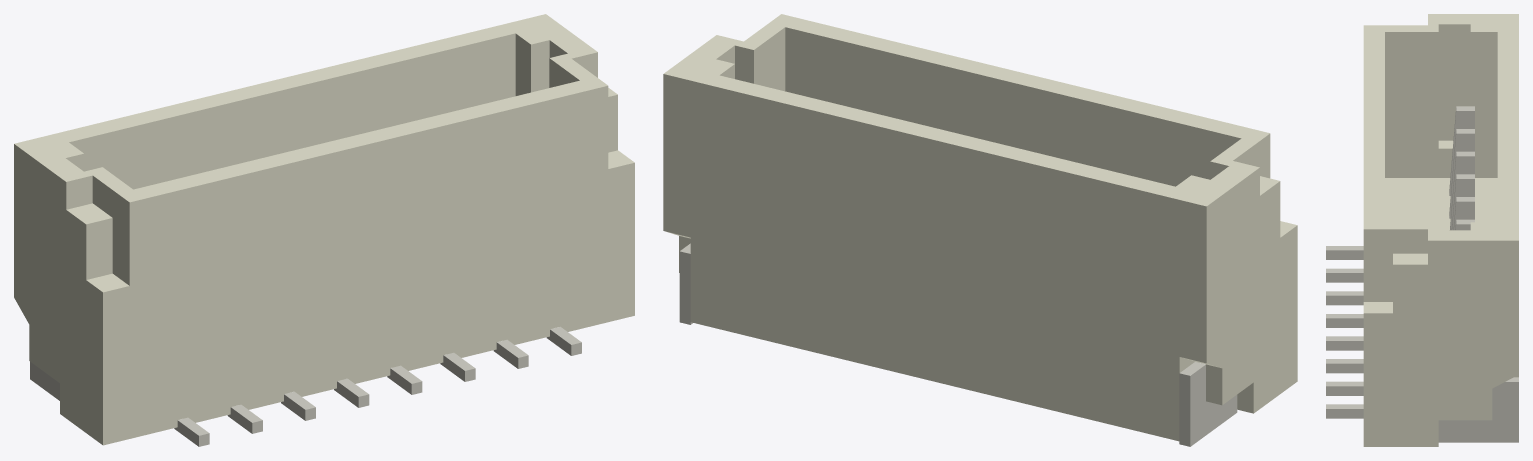
The model's file is kc-jst_sh_bm08b-srss-tb_1x08-1mp_p1.00mm_vertical.glb.
The picture shows the model from 3 angles, left to right: view 1: azimuth 30°, elevation 25°; view 2: azimuth 150°, elevation 25°; view 3: azimuth 270°, elevation 25°; orthographic projection. The views are drawn at different scales.
Parts seen in each view (by area): view 1: 0.75_0.75_0.6666666666666666_0, 0.6666666666666666_0.6666666666666666_0.5833333333333334_0.8; view 2: 0.75_0.75_0.6666666666666666_0, 0.6666666666666666_0.6666666666666666_0.5833333333333334_0.8; view 3: 0.75_0.75_0.6666666666666666_0, 0.6666666666666666_0.6666666666666666_0.5833333333333334_0.8.
Part boxes in pixels (left/top/right/bottom): 0.75_0.75_0.6666666666666666_0: left=14, top=14, right=634, bottom=445; 0.6666666666666666_0.6666666666666666_0.5833333333333334_0.8: left=30, top=326, right=581, bottom=446; 0.75_0.75_0.6666666666666666_0: left=663, top=14, right=1297, bottom=441; 0.6666666666666666_0.6666666666666666_0.5833333333333334_0.8: left=679, top=243, right=1237, bottom=446; 0.75_0.75_0.6666666666666666_0: left=1363, top=14, right=1518, bottom=446; 0.6666666666666666_0.6666666666666666_0.5833333333333334_0.8: left=1326, top=106, right=1518, bottom=442.
Bounding box in the file's own units: 1 × 0.432 × 0.36.
